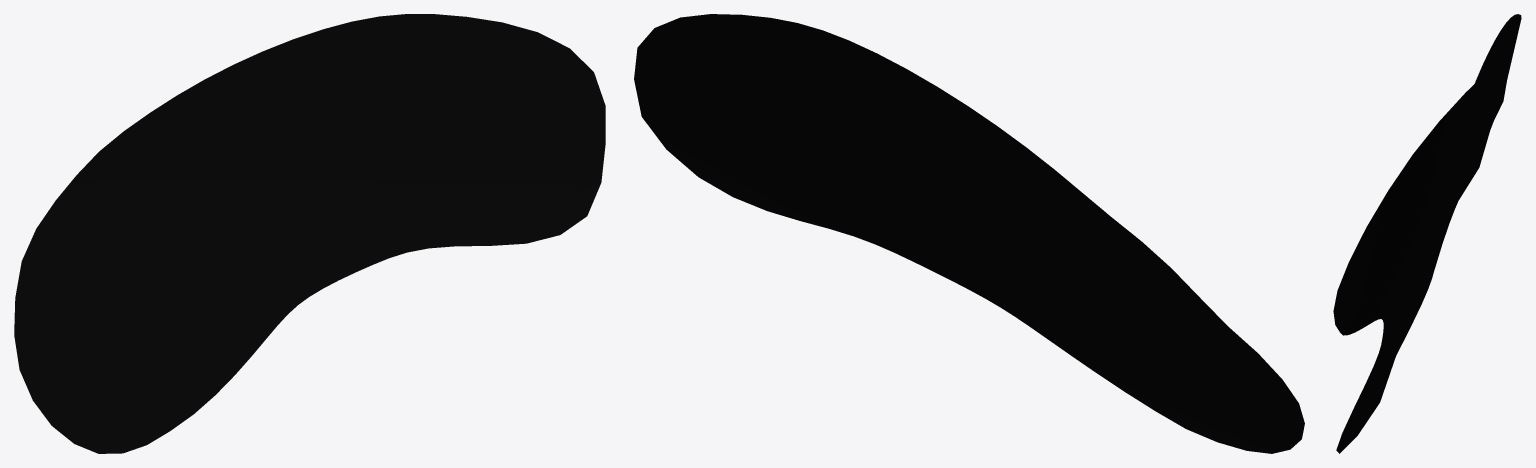
The model's file is 06-Bored-Face-mouth.glb.
3 views of the same model, side by side, from view 1: azimuth 30°, elevation 25°; view 2: azimuth 150°, elevation 25°; view 3: azimuth 270°, elevation 25° (orthographic). The views are drawn at different scales.
Visible parts, largest first — view 1: 06-Bored-Face-mouth; view 2: 06-Bored-Face-mouth; view 3: 06-Bored-Face-mouth.
Part boxes in pixels (x1,y1,x2,y2): 06-Bored-Face-mouth: [14, 14, 605, 453]; 06-Bored-Face-mouth: [634, 14, 1304, 453]; 06-Bored-Face-mouth: [1333, 14, 1521, 453].
Size of the model in its own units: 0.0771 by 0.0412 by 0.0161.
Materials: 1 (1 with a texture image).
